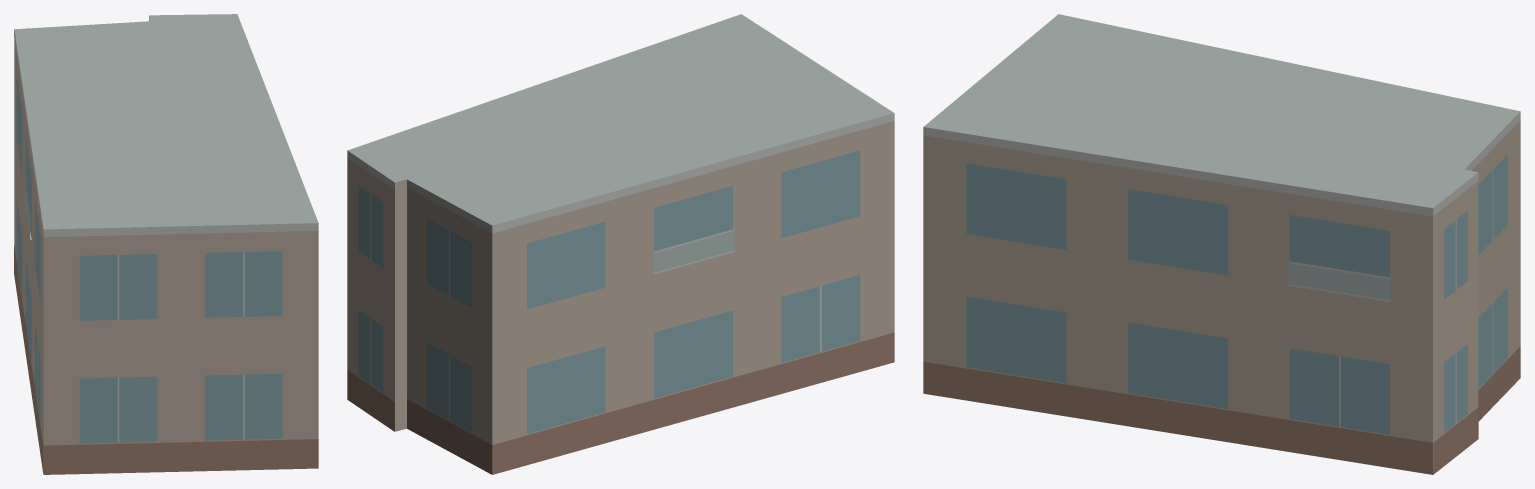
Rendered from survey-upis-32656110.glb.
The picture shows the model from 3 angles, left to right: view 1: azimuth 30°, elevation 25°; view 2: azimuth 150°, elevation 25°; view 3: azimuth 270°, elevation 25°; orthographic projection. The views are drawn at different scales.
Visible parts, largest first — view 1: survey-upis-32656110.tmp; view 2: survey-upis-32656110.tmp; view 3: survey-upis-32656110.tmp.
Boxes of the visible parts, x1,y1,x2,y2 form: survey-upis-32656110.tmp: [14, 14, 318, 474]; survey-upis-32656110.tmp: [347, 14, 894, 474]; survey-upis-32656110.tmp: [923, 14, 1520, 474].
Size of the model in its own units: 12.2 by 7.8 by 15.85.
